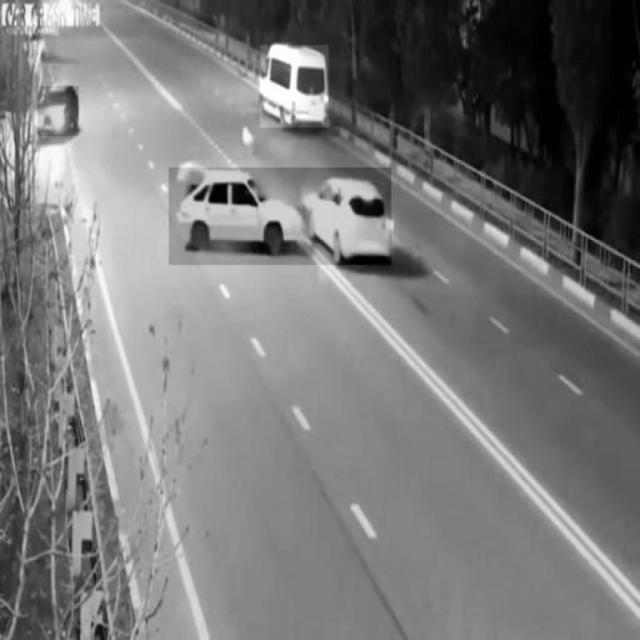accident: (169, 167, 391, 265)
vehicle: (260, 45, 328, 127), (38, 86, 79, 136)
